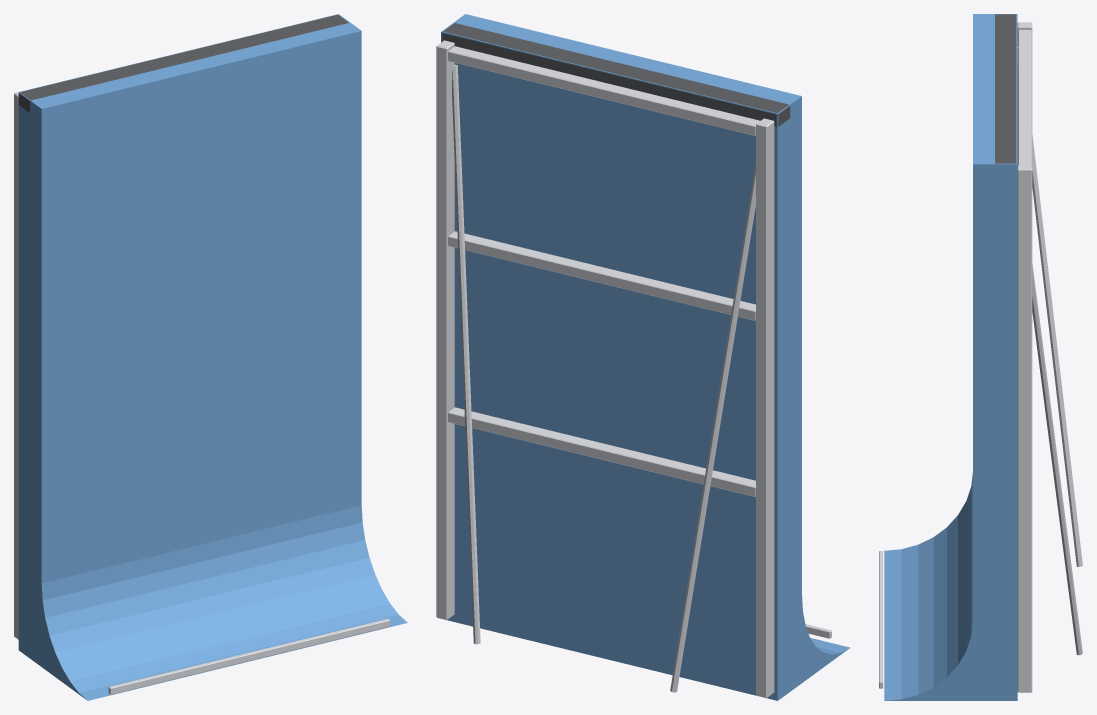
The model's file is 35481_Cyclorama_Straight_Section__TV_Studio_and_Broadcast_Gallery_.glb.
The picture shows the model from 3 angles, left to right: view 1: azimuth 30°, elevation 25°; view 2: azimuth 150°, elevation 25°; view 3: azimuth 270°, elevation 25°; orthographic projection. The views are drawn at different scales.
Visible parts, largest first — view 1: cyclorama-straight-section; view 2: cyclorama-straight-section; view 3: cyclorama-straight-section.
Boxes of the visible parts, x1,y1,x2,y2 form: cyclorama-straight-section: (14,14,407,700); cyclorama-straight-section: (436,14,849,700); cyclorama-straight-section: (879,14,1082,700).
Bounding box in the file's own units: 2.4 × 4 × 1.38.
